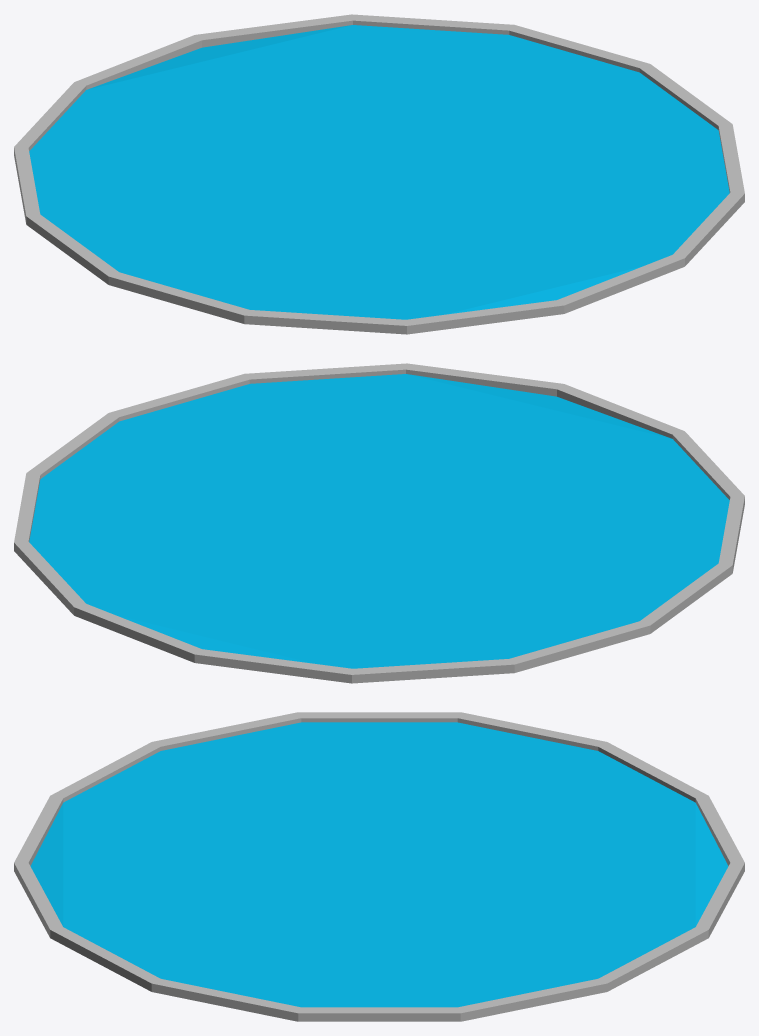
File: pool_04.fbx
The picture shows the model from 3 angles, top to bottom: view 1: azimuth 30°, elevation 25°; view 2: azimuth 150°, elevation 25°; view 3: azimuth 270°, elevation 25°; orthographic projection.
Parts seen in each view (by area): view 1: pool_04; view 2: pool_04; view 3: pool_04.
Boxes of the visible parts, box(x1,y1,x2,y2) form: pool_04: box(14, 14, 744, 334); pool_04: box(14, 363, 744, 683); pool_04: box(14, 712, 744, 1021).
Size of the model in its own units: 15.28 by 0.2 by 15.67.
